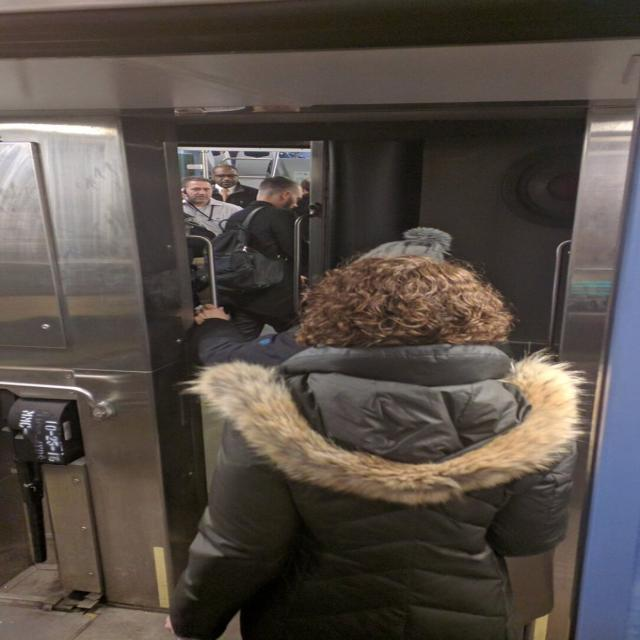body: (158, 247, 588, 640), (190, 225, 456, 371), (214, 175, 310, 343), (180, 175, 244, 238), (210, 162, 262, 208), (294, 177, 312, 284), (186, 207, 214, 256)
